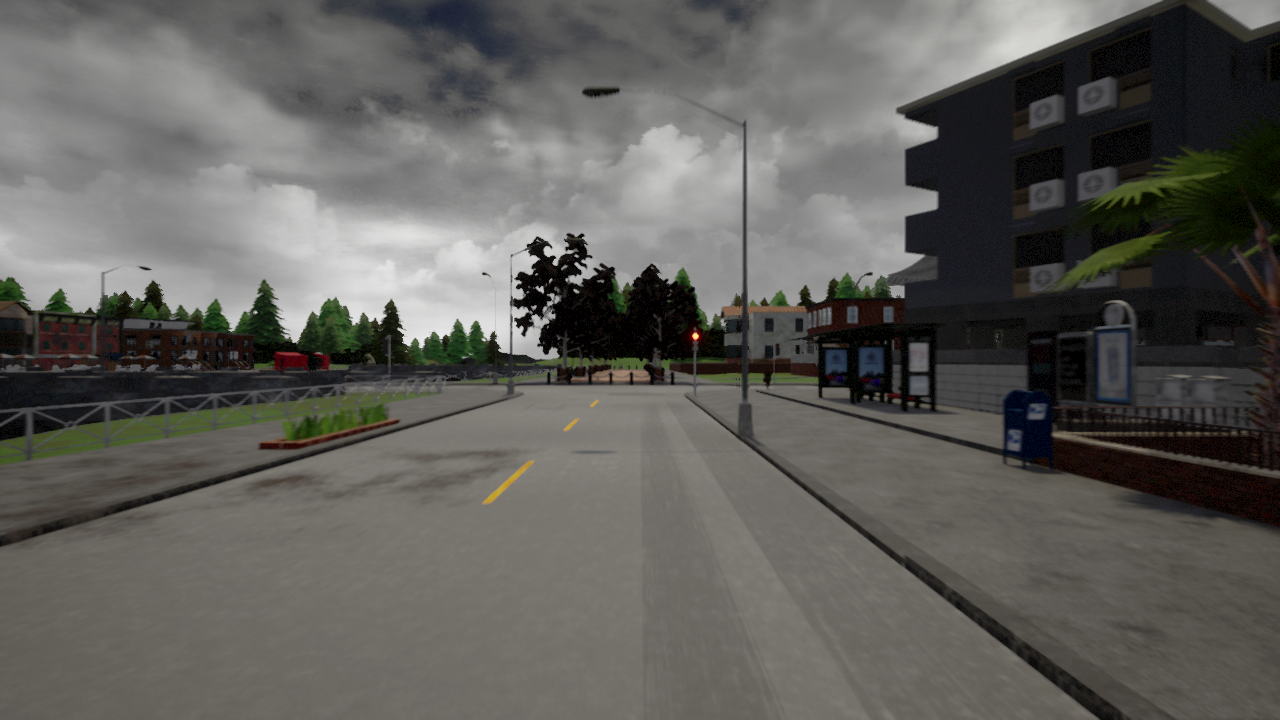red: (691, 330, 698, 351)
